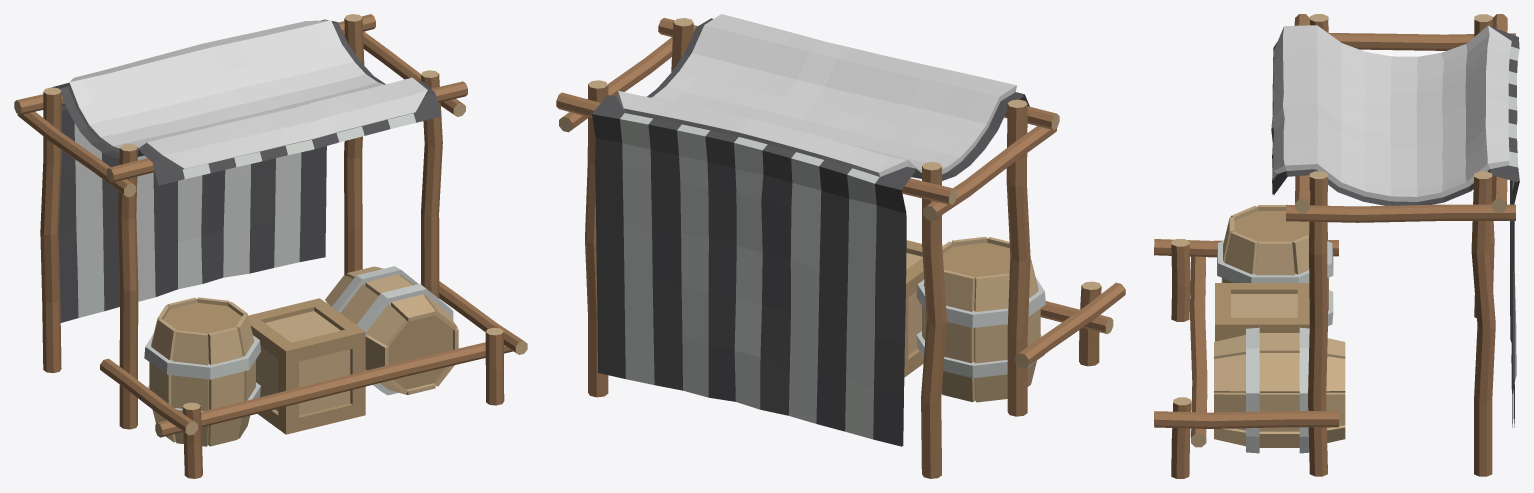
Rendered from Stall09.fbx.
The picture shows the model from 3 angles, left to right: view 1: azimuth 30°, elevation 25°; view 2: azimuth 150°, elevation 25°; view 3: azimuth 270°, elevation 25°; orthographic projection. The views are drawn at different scales.
Parts seen in each view (by area): view 1: Stall09; view 2: Stall09; view 3: Stall09.
Part boxes in pixels (left/top/right/bottom): Stall09: left=14, top=14, right=527, bottom=478; Stall09: left=556, top=14, right=1125, bottom=478; Stall09: left=1154, top=14, right=1519, bottom=478.
Bounding box in the file's own units: 4 × 3.07 × 3.34.
